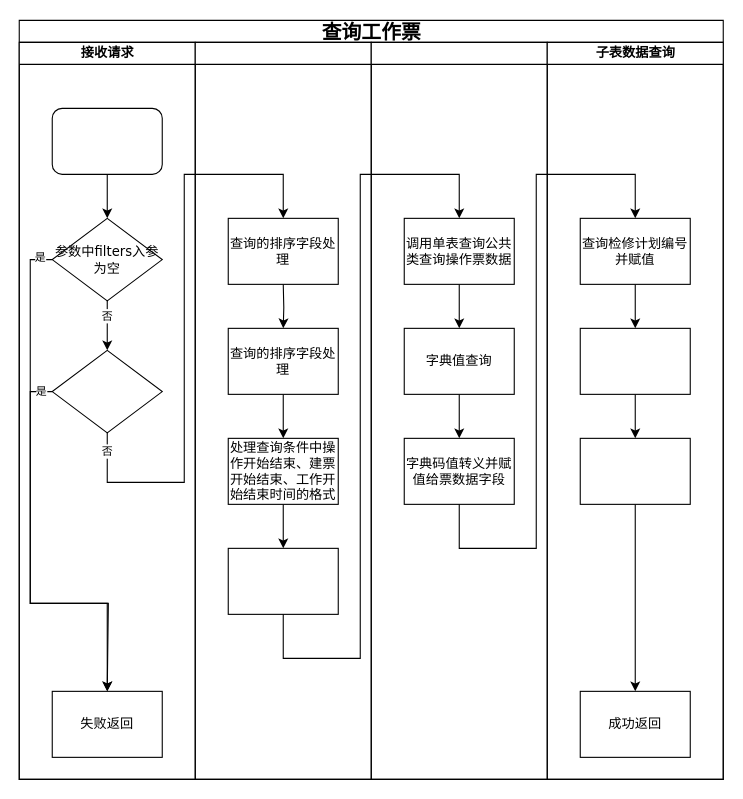
This 743x799 diagram has some shape labels left out. The box of each missing label's shape, as (x1, y1, x2, y2) in pixels:
为不同过滤字段设置比较符: (227, 547, 338, 614)
参数中filters的属性都为空: (51, 349, 162, 433)
工作票查询: (370, 41, 547, 779)
开始: (51, 107, 162, 174)
查询参数处理: (194, 41, 371, 779)
查询工作票任务来源关联数据并赋值: (579, 327, 690, 394)
查询派发关系表数据并赋值: (579, 437, 690, 504)
